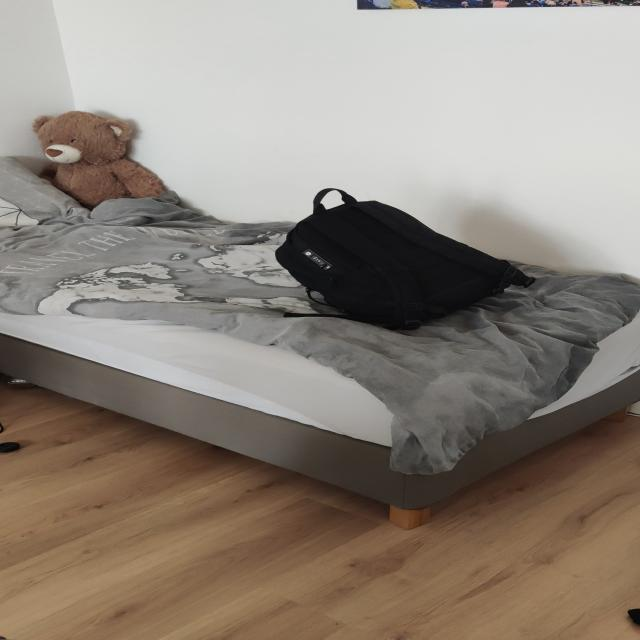backpack: (260, 193, 532, 331)
